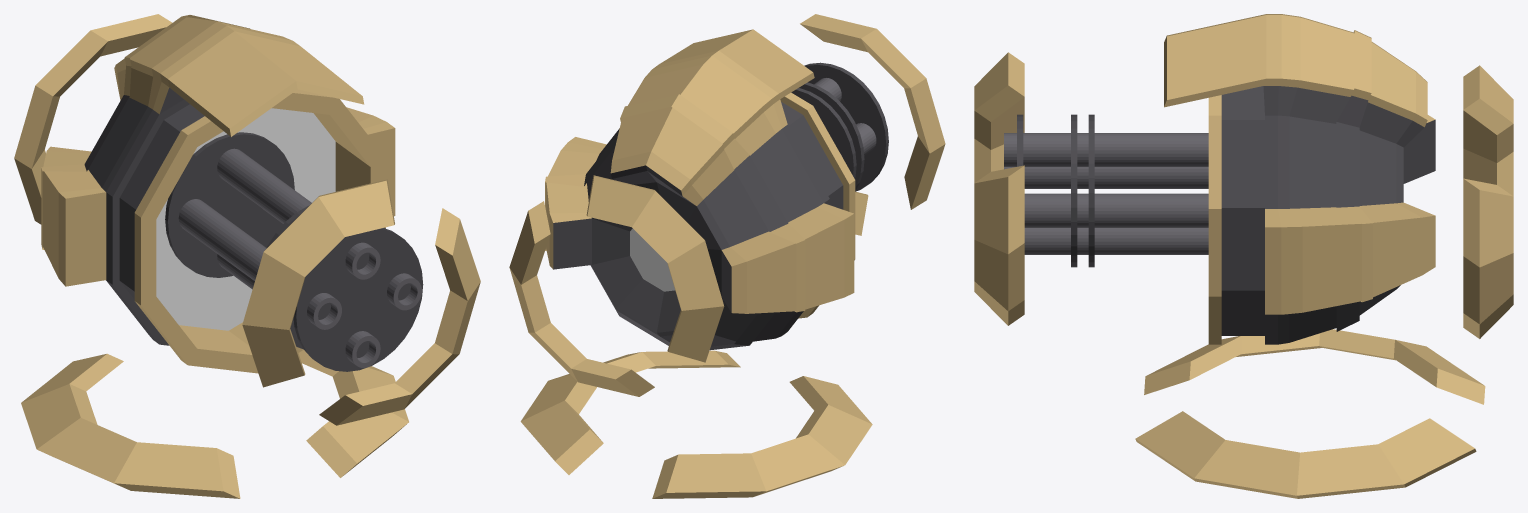
File: Ametralladora2 (1).fbx
The picture shows the model from 3 angles, left to right: view 1: azimuth 30°, elevation 25°; view 2: azimuth 150°, elevation 25°; view 3: azimuth 270°, elevation 25°; orthographic projection. The views are drawn at different scales.
Visible parts, largest first — view 1: Ametralladora2; view 2: Ametralladora2; view 3: Ametralladora2.
Part boxes in pixels (x1,y1,x2,y2): Ametralladora2: (14, 14, 480, 498); Ametralladora2: (509, 14, 945, 498); Ametralladora2: (974, 14, 1513, 498).
Size of the model in its own units: 191 by 218 by 262.
